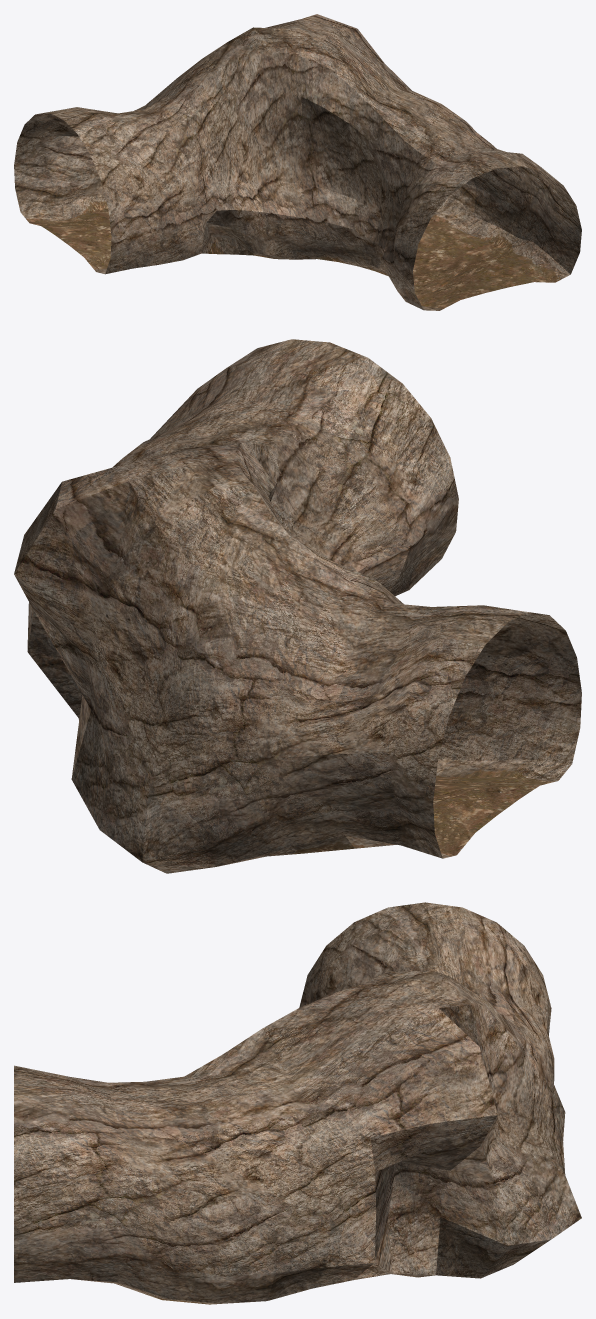
File: CaveCorridorTurnLeft.obj
3 renders of one model, top to bottom at view 1: azimuth 30°, elevation 25°; view 2: azimuth 150°, elevation 25°; view 3: azimuth 270°, elevation 25°, orthographic. The views are drawn at different scales.
Parts seen in each view (by area): view 1: CaveCorridorTurnLeft; view 2: CaveCorridorTurnLeft; view 3: CaveCorridorTurnLeft.
Boxes of the visible parts, x1,y1,x2,y2 form: CaveCorridorTurnLeft: [14, 14, 581, 310]; CaveCorridorTurnLeft: [14, 339, 581, 873]; CaveCorridorTurnLeft: [14, 902, 581, 1304].
Bounding box in the file's own units: 6.84 × 3.97 × 7.18.
